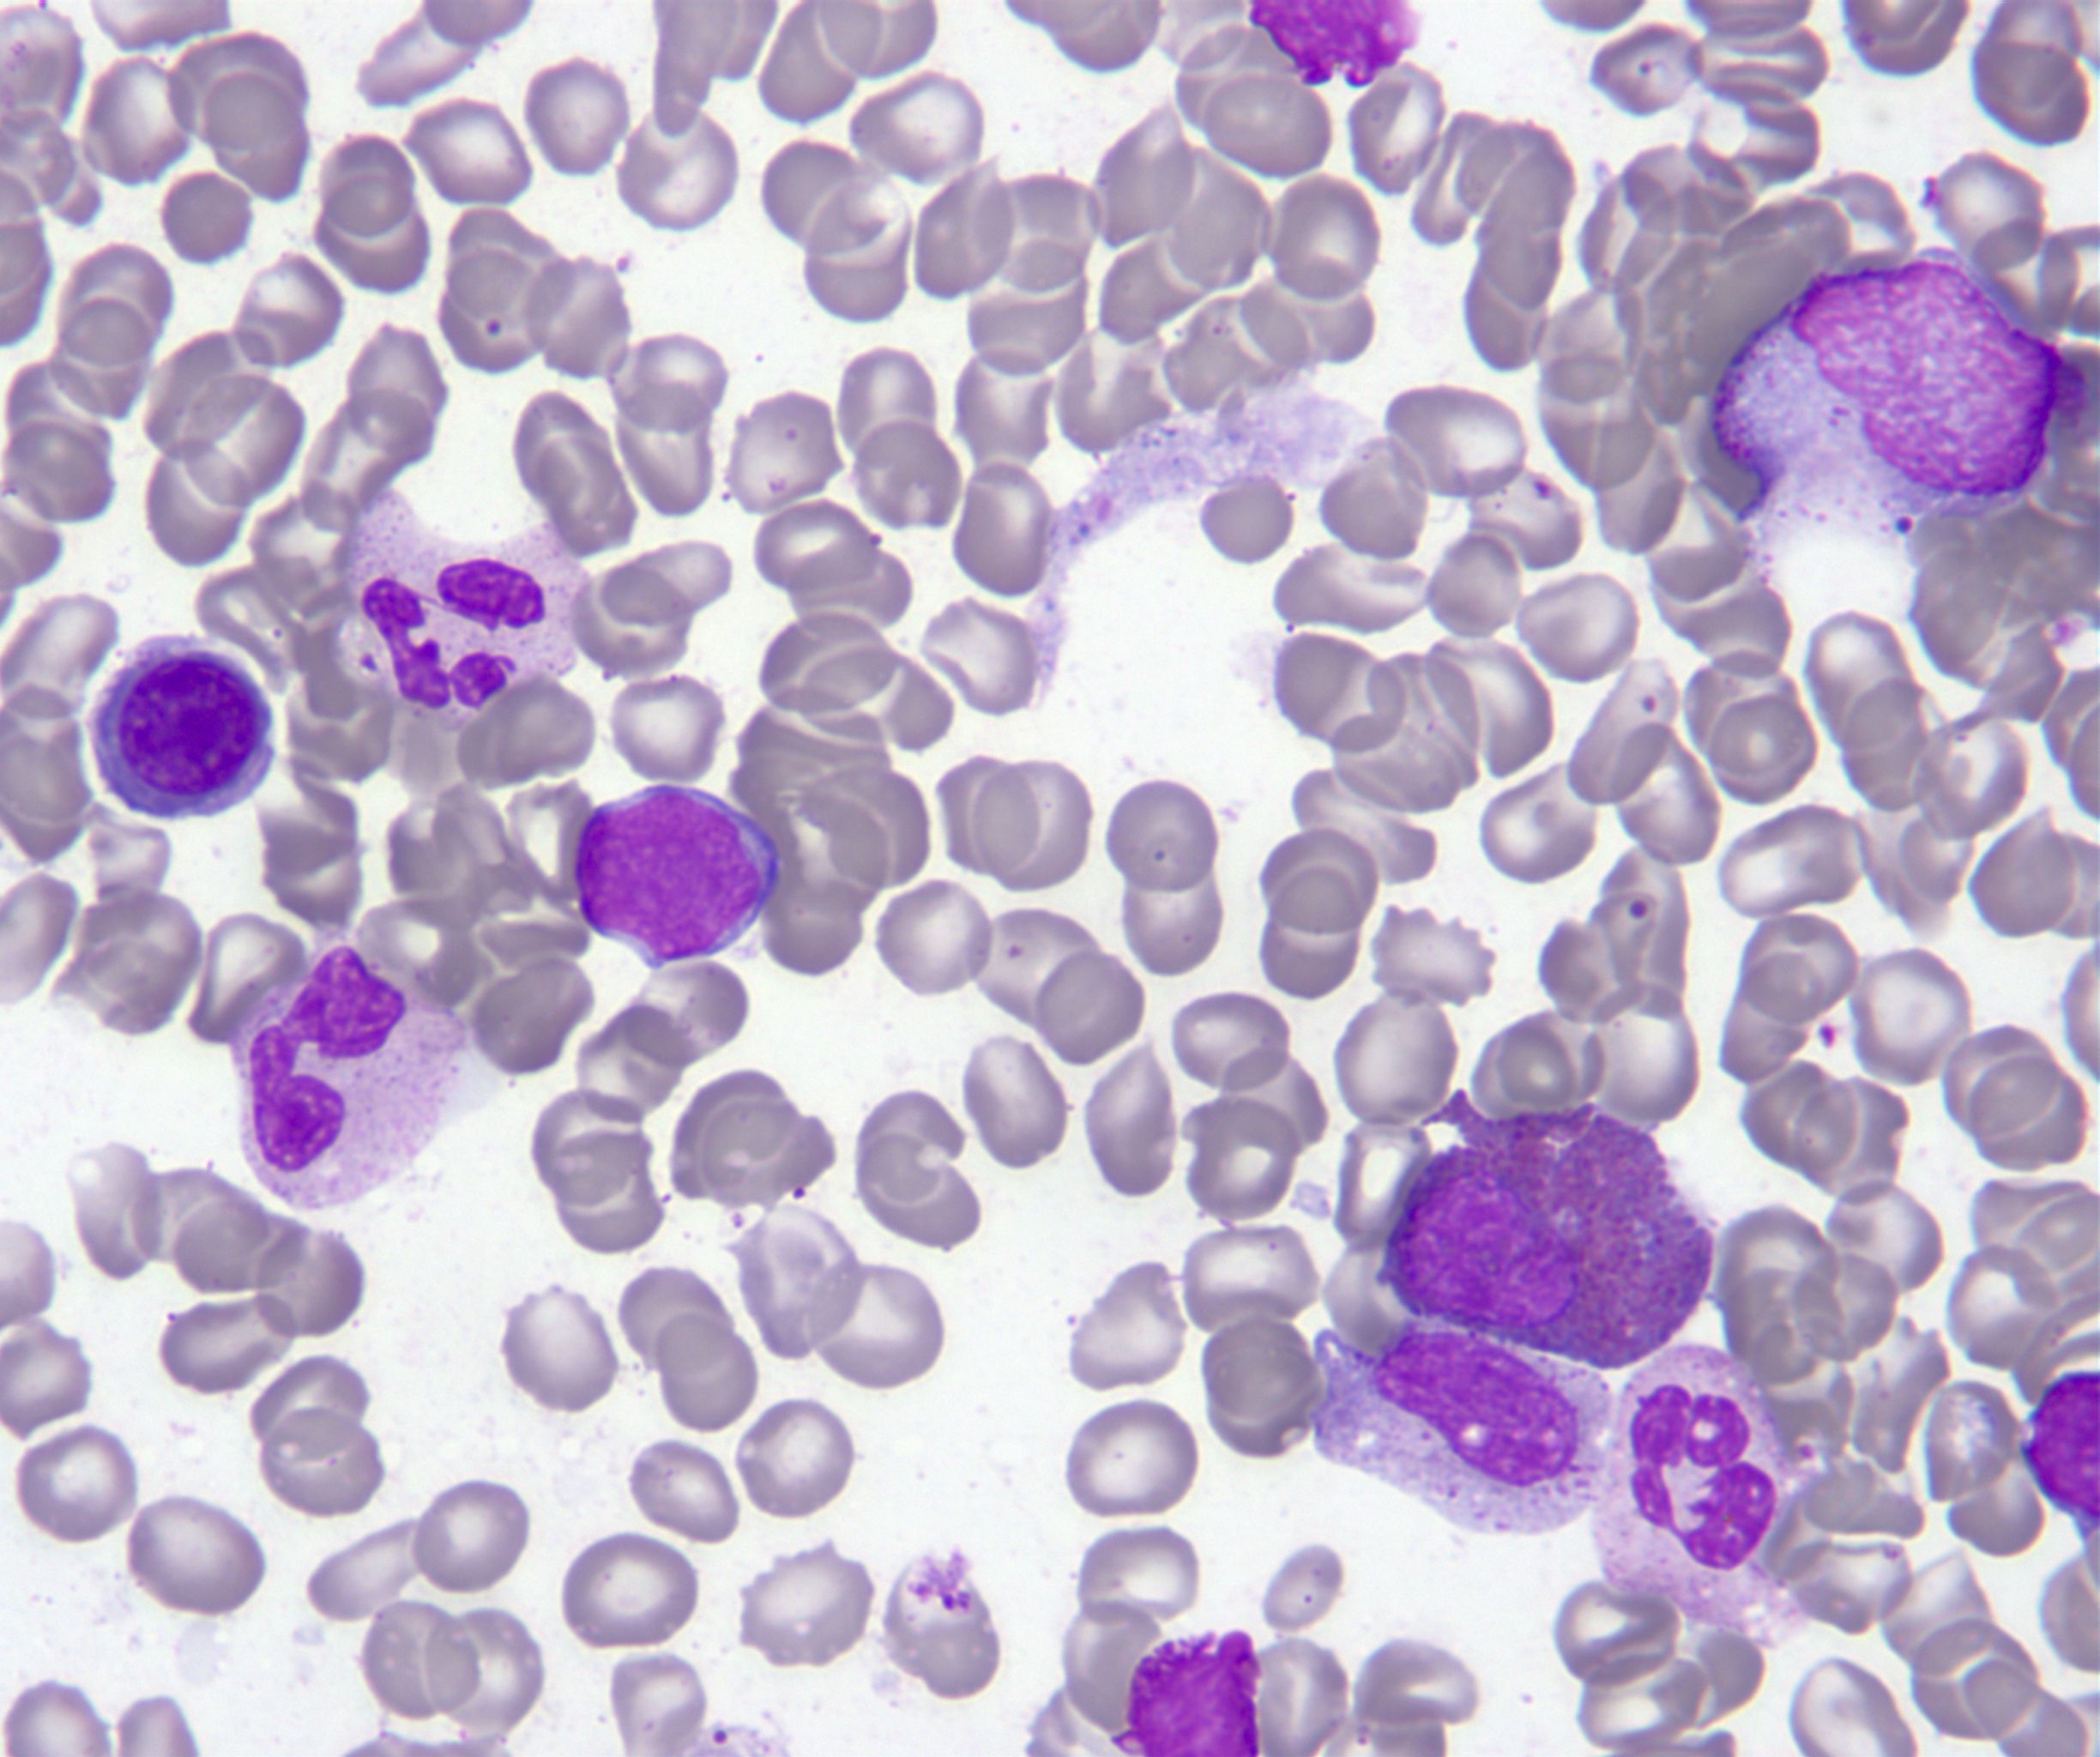1: (576, 783, 780, 968)
23: (85, 635, 272, 817)
3: (1713, 262, 2090, 534)
42: (1310, 1316, 1615, 1537)
5: (230, 918, 467, 1209)
6: (1589, 1343, 1805, 1649), (333, 489, 584, 729)
E2: (1376, 1087, 1715, 1370)
x: (1111, 1631, 1259, 1757), (1251, 0, 1420, 85), (2023, 1371, 2100, 1539)
